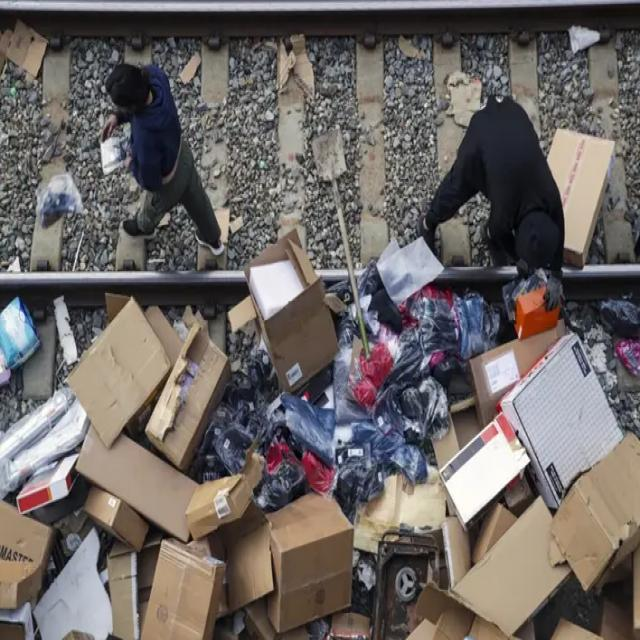people: (95, 60, 234, 260), (424, 92, 568, 275)
